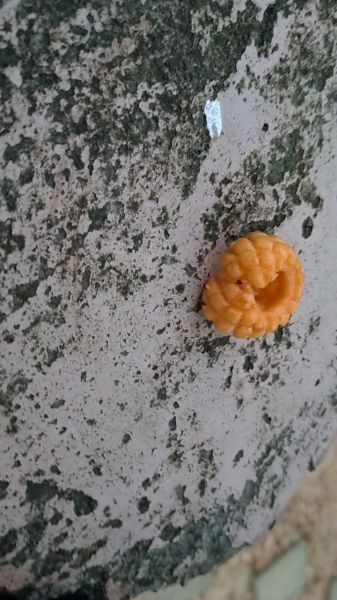eggs: (193, 228, 311, 339)
